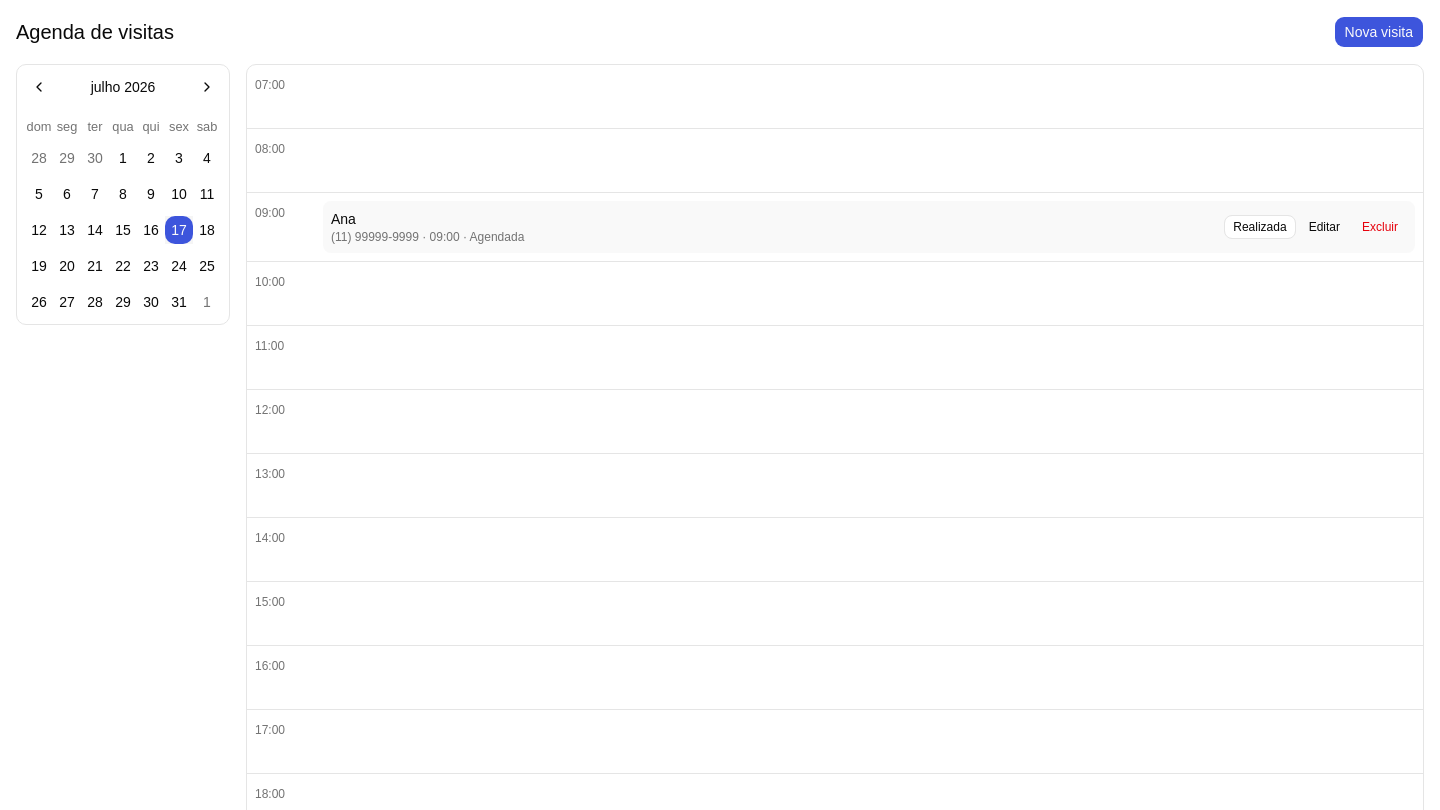
Test: AgendaPanel › abre modal de edição ao clicar em "Editar"
Click the button "Editar".
click(1324, 227)  # box [1300,215,1349,239]
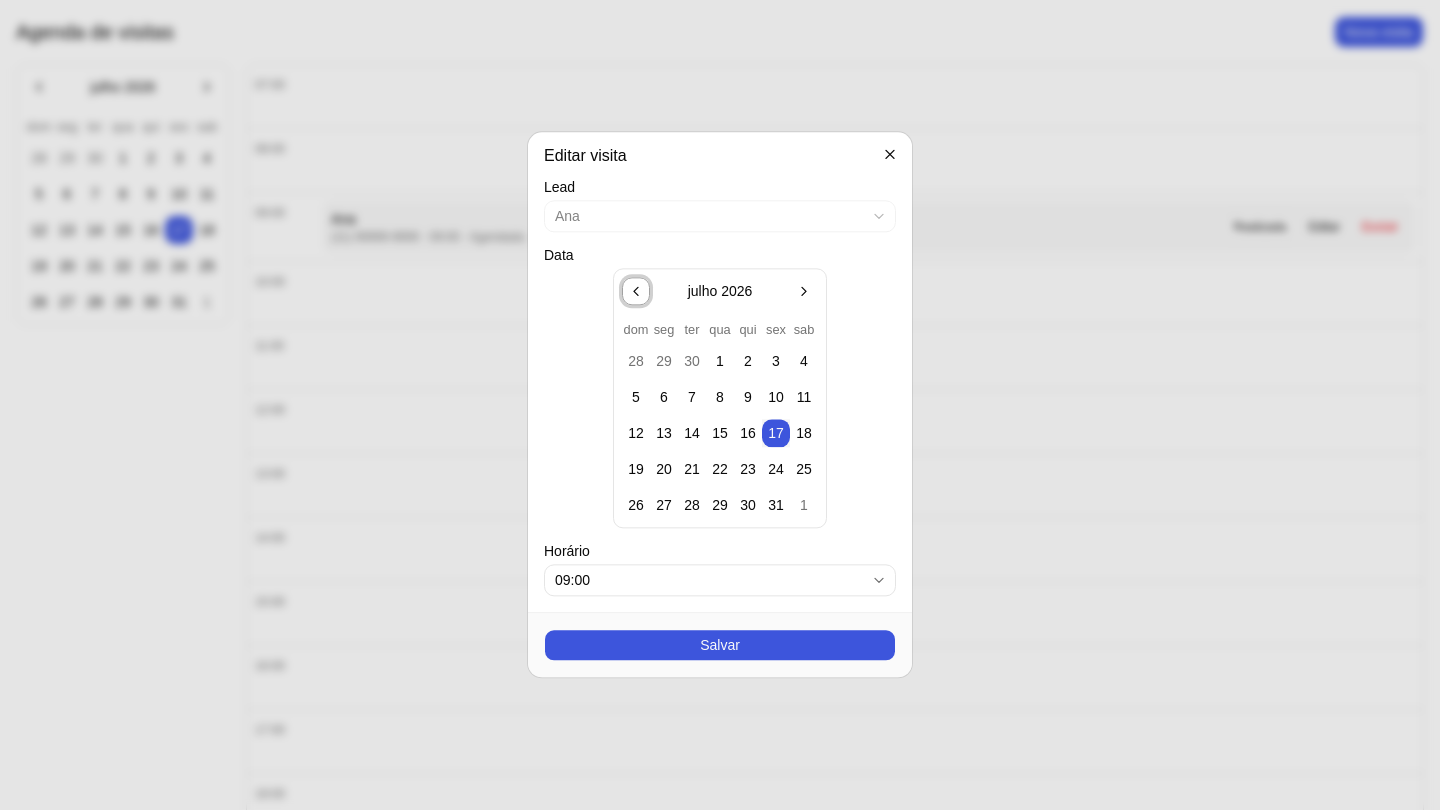
Check: the heading "Editar visita" is shown, box [544,147,627,164]
